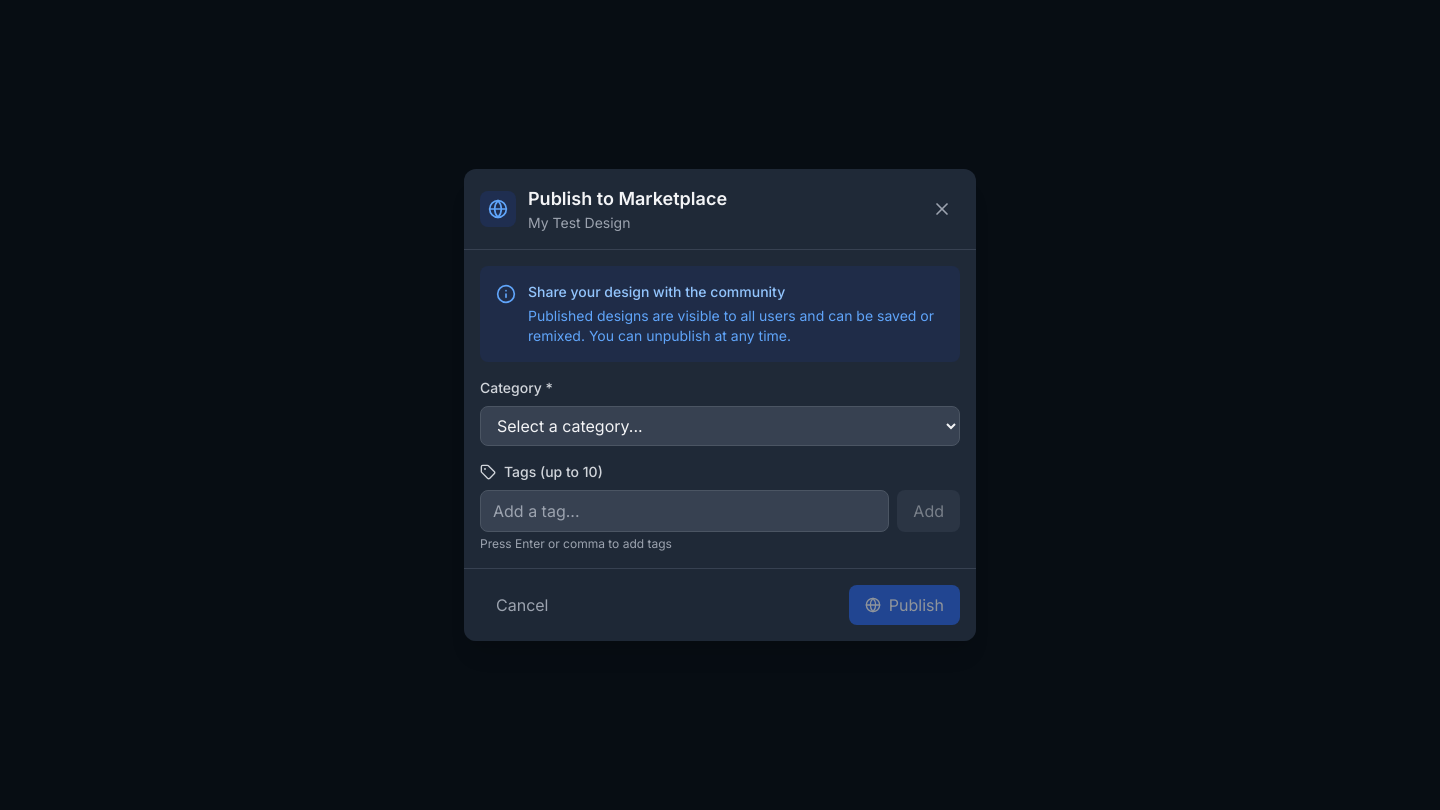
PublishToMarketplaceDialog › shows success message after publishing
The width and height of the screenshot is (1440, 810).
Select "Arduino (5 designs)" in the dropdown with test id "category-select": [720, 426] box [480, 406, 960, 446]
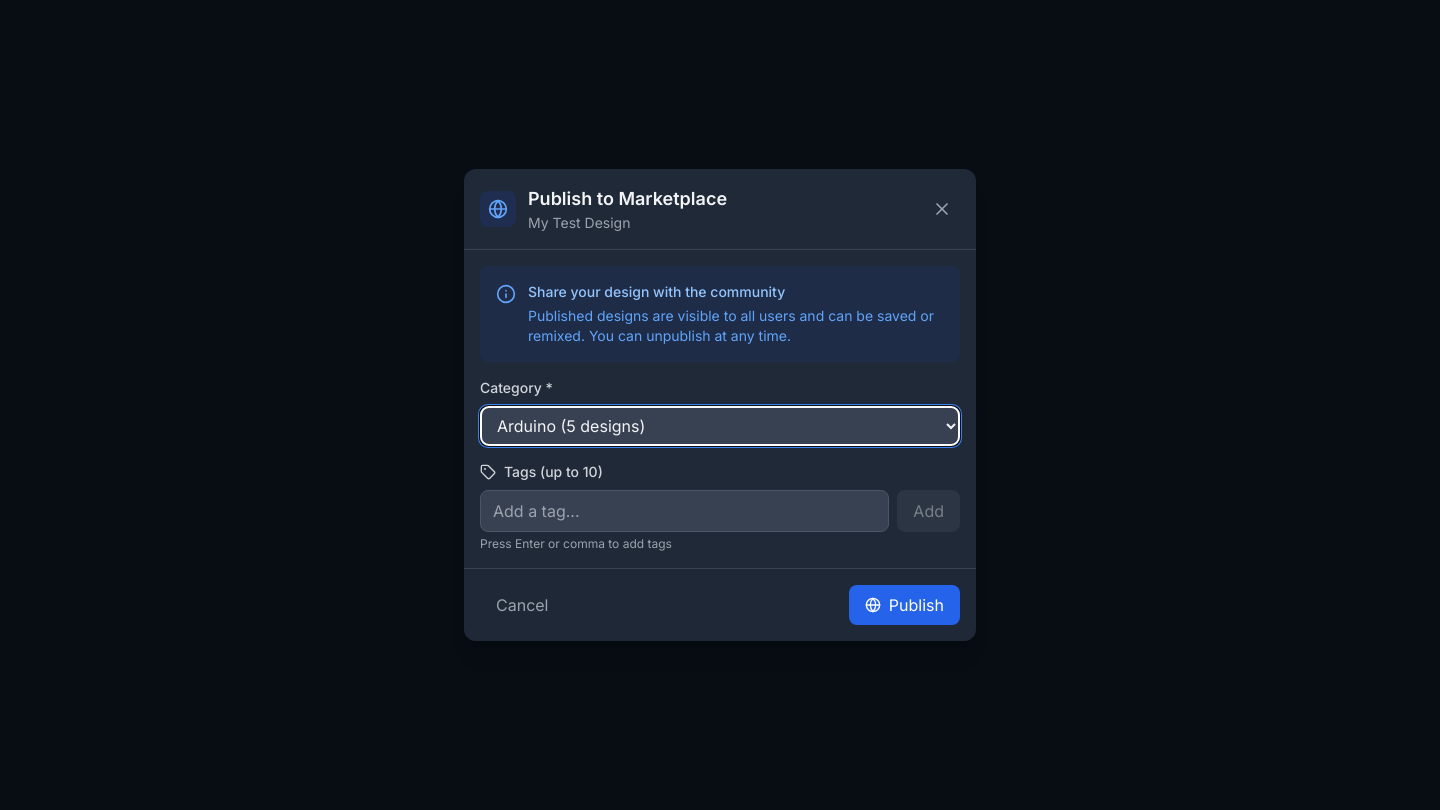
Click the button with test id "publish-submit": [904, 605] box [849, 585, 960, 625]
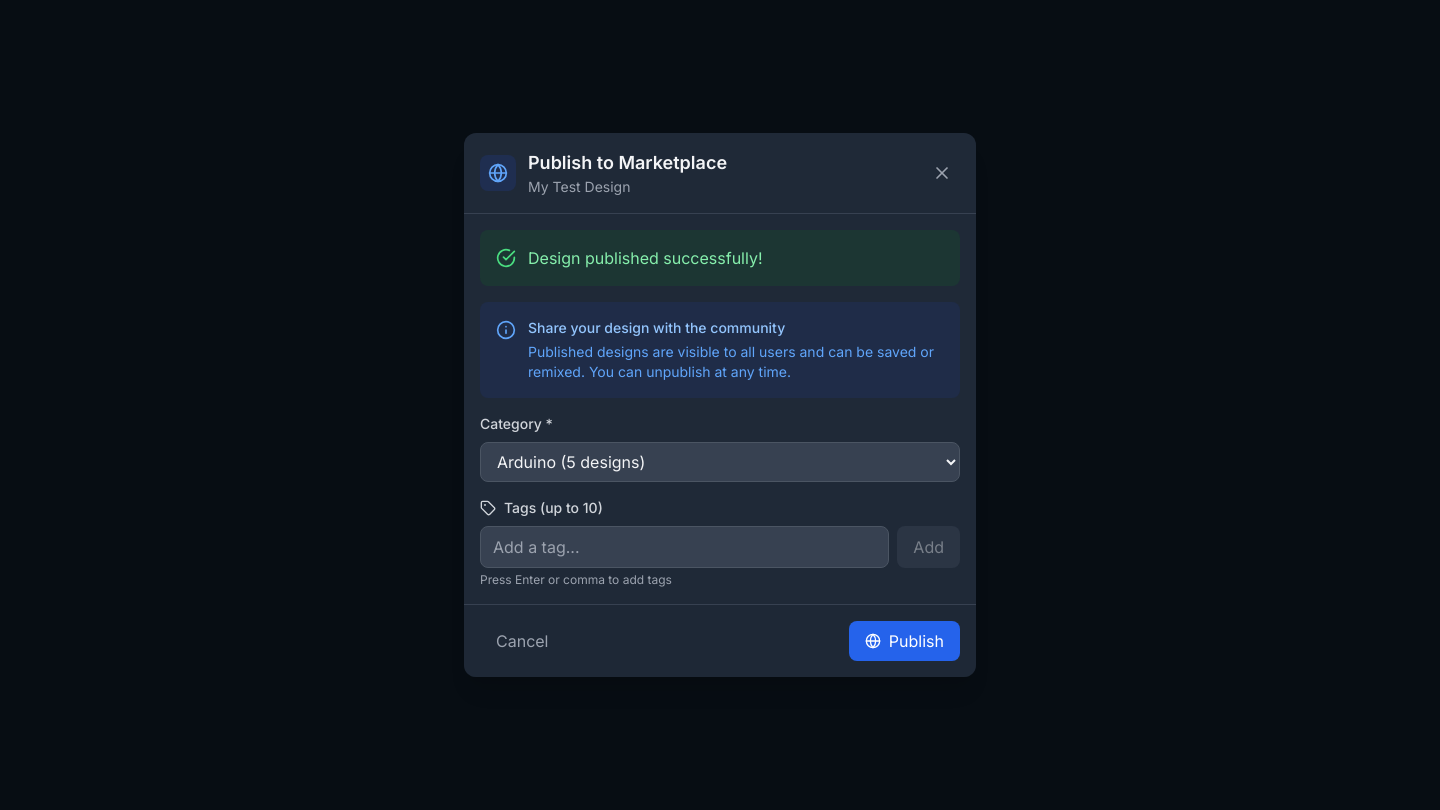
Result: the text "Design published successfully!" is shown at [528, 246, 762, 270]
